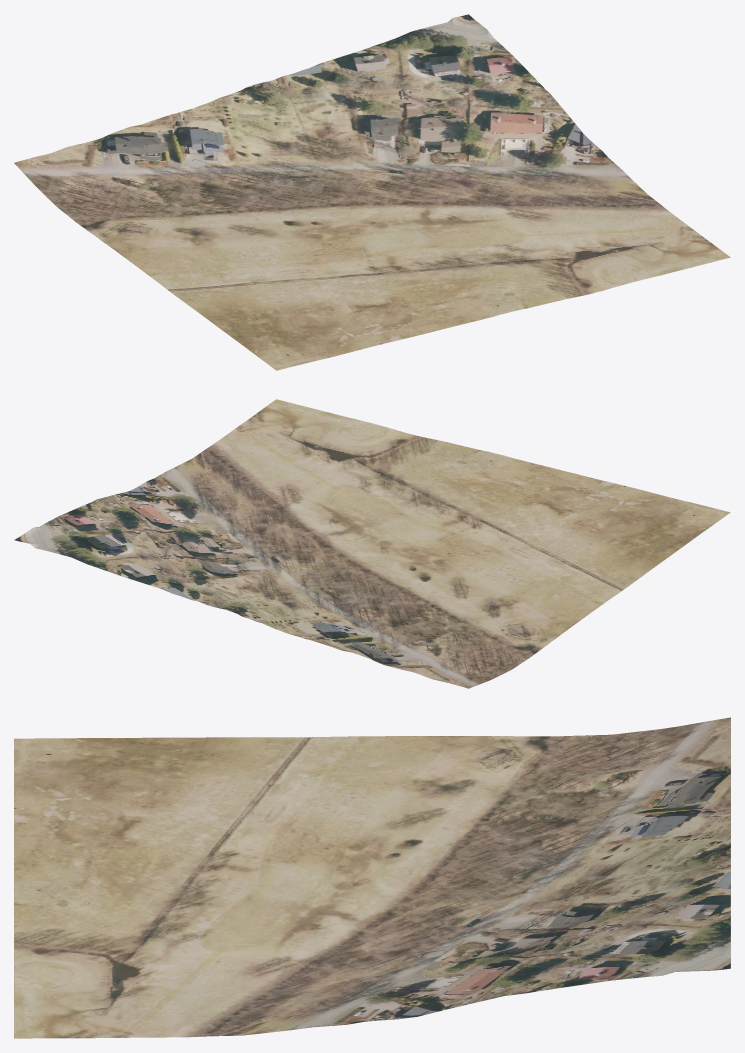
Rendered from CM_Terrain_24491687_6819180.fbx.
The picture shows the model from 3 angles, top to bottom: view 1: azimuth 30°, elevation 25°; view 2: azimuth 150°, elevation 25°; view 3: azimuth 270°, elevation 25°; orthographic projection. The views are drawn at different scales.
Visible parts, largest first — view 1: CM_Terrain_24491687_6819180_LOD0; view 2: CM_Terrain_24491687_6819180_LOD0; view 3: CM_Terrain_24491687_6819180_LOD0.
Part boxes in pixels (bbox=[...]): CM_Terrain_24491687_6819180_LOD0: bbox=[14, 14, 730, 370]; CM_Terrain_24491687_6819180_LOD0: bbox=[14, 399, 730, 688]; CM_Terrain_24491687_6819180_LOD0: bbox=[14, 717, 730, 1038].
Size of what is drawn, in the model's own units: 205 by 23.12 by 205.
